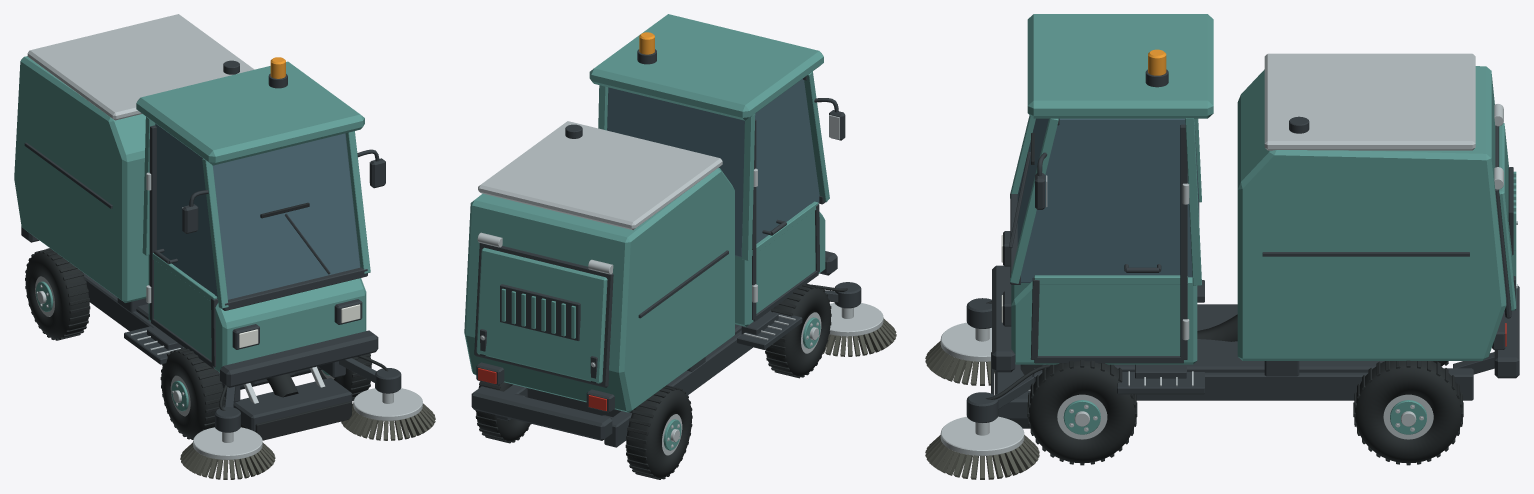
Rendered from city-compact-street-sweeper.glb.
3 views of the same model, side by side, from view 1: azimuth 30°, elevation 25°; view 2: azimuth 150°, elevation 25°; view 3: azimuth 270°, elevation 25° (orthographic). The views are drawn at different scales.
Visible parts, largest first — view 1: Assembly | Municipal muted teal enamel, Assembly | Opaque blue grey glazing appearance, Assembly | Graphite chassis steel, Assembly | Satin zinc and machined hardware, Assembly | Charcoal tire and flexible skirt, Assembly | Coarse dark brush filaments, Assembly | Inactive opaque ivory lamp lenses; view 2: Assembly | Municipal muted teal enamel, Assembly | Satin zinc and machined hardware, Assembly | Graphite chassis steel, Assembly | Opaque blue grey glazing appearance, Assembly | Charcoal tire and flexible skirt, Assembly | Coarse dark brush filaments, Assembly | Inactive red rear lenses; view 3: Assembly | Municipal muted teal enamel, Assembly | Satin zinc and machined hardware, Assembly | Graphite chassis steel, Assembly | Opaque blue grey glazing appearance, Assembly | Charcoal tire and flexible skirt, Assembly | Coarse dark brush filaments.
Boxes of the visible parts, x1,y1,x2,y2 form: Assembly | Municipal muted teal enamel: (14,56,370,411); Assembly | Opaque blue grey glazing appearance: (155,123,360,299); Assembly | Graphite chassis steel: (21,60,401,432); Assembly | Satin zinc and machined hardware: (27,14,422,459); Assembly | Charcoal tire and flexible skirt: (25,202,388,440); Assembly | Coarse dark brush filaments: (180,403,435,479); Assembly | Inactive opaque ivory lamp lenses: (239,304,360,347); Assembly | Municipal muted teal enamel: (464,14,829,450); Assembly | Satin zinc and machined hardware: (477,115,883,455); Assembly | Graphite chassis steel: (471,49,861,447); Assembly | Opaque blue grey glazing appearance: (607,79,819,257); Assembly | Charcoal tire and flexible skirt: (475,284,847,479); Assembly | Coarse dark brush filaments: (823,318,896,356); Assembly | Inactive red rear lenses: (478,368,606,410); Assembly | Municipal muted teal enamel: (1010,14,1516,434); Assembly | Satin zinc and machined hardware: (940,53,1517,455); Assembly | Graphite chassis steel: (966,69,1519,422); Assembly | Opaque blue grey glazing appearance: (1017,118,1199,282); Assembly | Charcoal tire and flexible skirt: (986,133,1463,465); Assembly | Coarse dark brush filaments: (925,341,1039,479).
Bounding box in the file's own units: 1.76 × 2.24 × 3.1.
